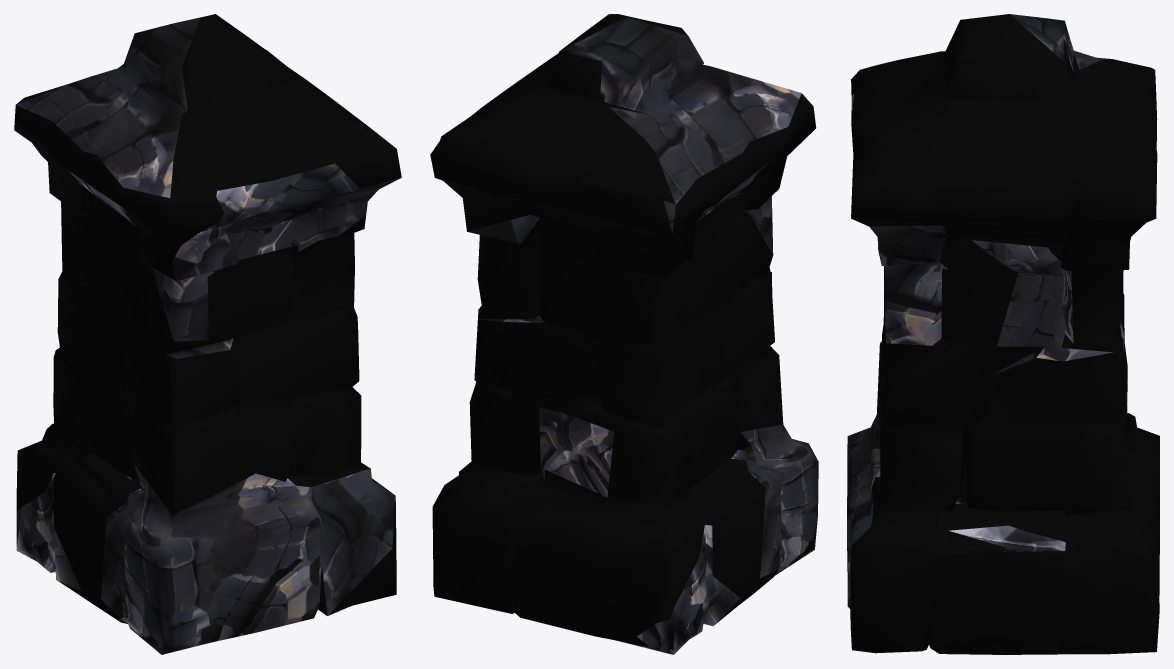
Rendered from RIP0 (2).obj.
3 renders of one model, left to right at view 1: azimuth 30°, elevation 25°; view 2: azimuth 150°, elevation 25°; view 3: azimuth 270°, elevation 25°, orthographic. The views are drawn at different scales.
Parts seen in each view (by area): view 1: RIP0; view 2: RIP0; view 3: RIP0.
Part boxes in pixels (x1=…): RIP0: x1=14, y1=14, x2=401, y2=654; RIP0: x1=430, y1=14, x2=818, y2=654; RIP0: x1=847, y1=14, x2=1159, y2=654.
Size of the model in its own units: 0.4596 by 1 by 0.4893.
